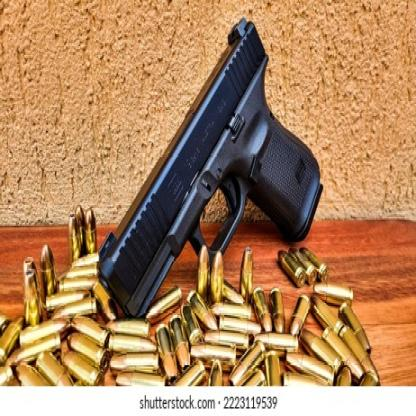handgun: (98, 11, 326, 320)
